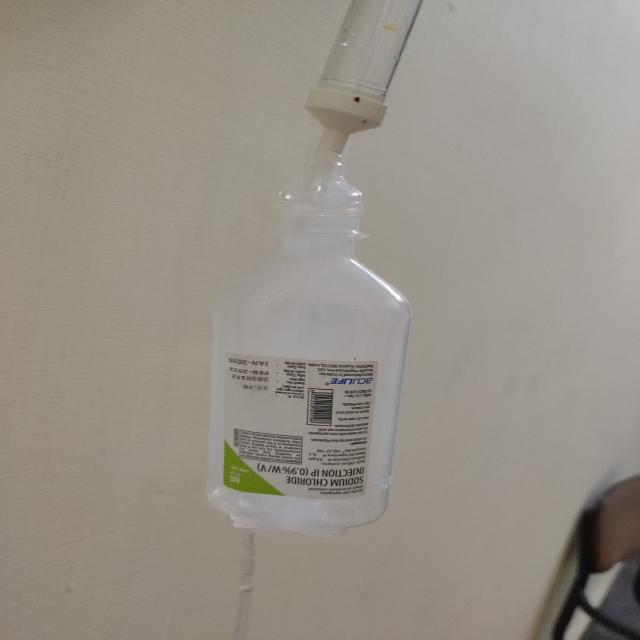B3: (203, 155, 414, 531)
